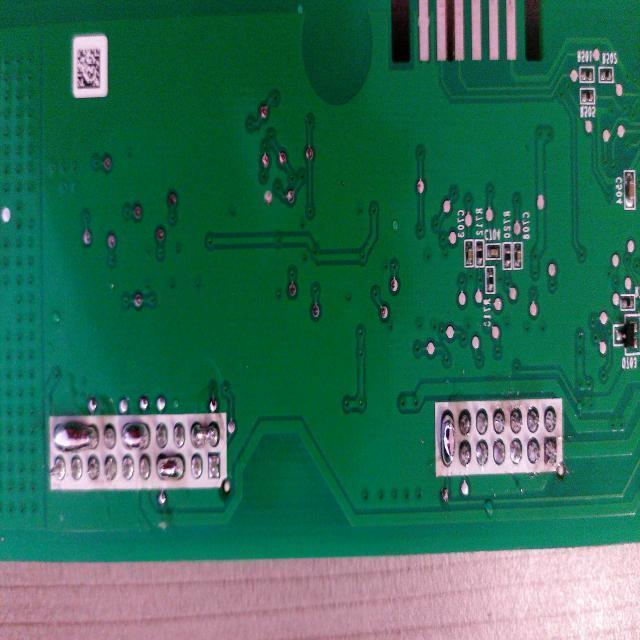Soldering shorted: (51, 416, 104, 456), (188, 414, 222, 450), (118, 418, 154, 449), (439, 411, 457, 472), (155, 456, 185, 480)
